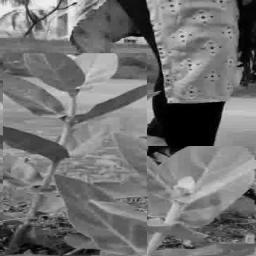Calotropis: (3, 53, 148, 256), (148, 146, 256, 256)
